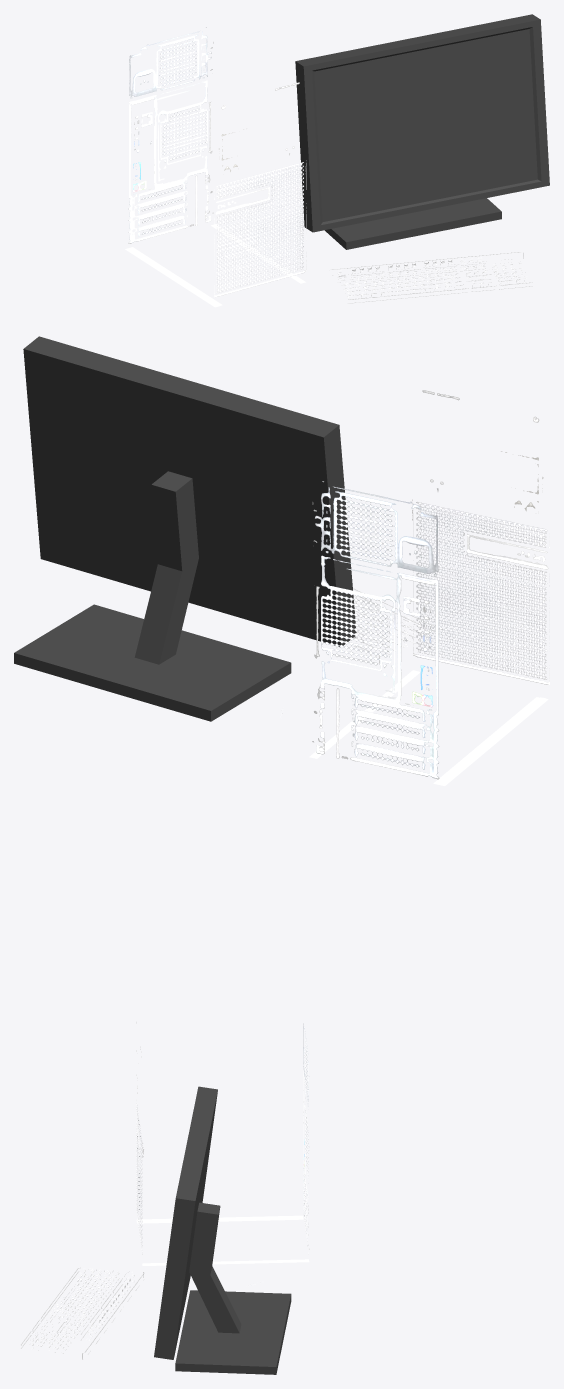
File: Computer_Mesh.fbx
3 renders of one model, top to bottom at view 1: azimuth 30°, elevation 25°; view 2: azimuth 150°, elevation 25°; view 3: azimuth 270°, elevation 25°, orthographic. The views are drawn at different scales.
Parts seen in each view (by area): view 1: Tower_mesh; view 2: Tower_mesh; view 3: Tower_mesh.
Boxes of the visible parts, x1,y1,x2,y2 form: Tower_mesh: (125, 14, 549, 307); Tower_mesh: (14, 336, 549, 785); Tower_mesh: (21, 1022, 309, 1374).
Size of the model in its own units: 18163 by 10768 by 19931.
